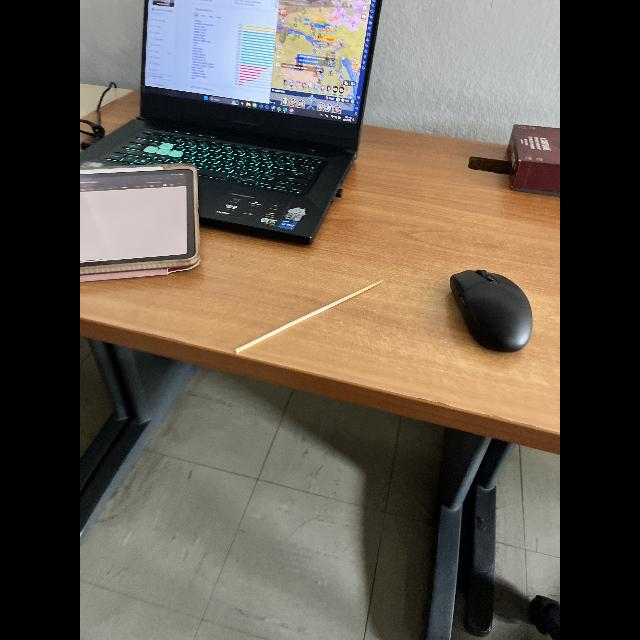stick: (223, 274, 397, 364)
